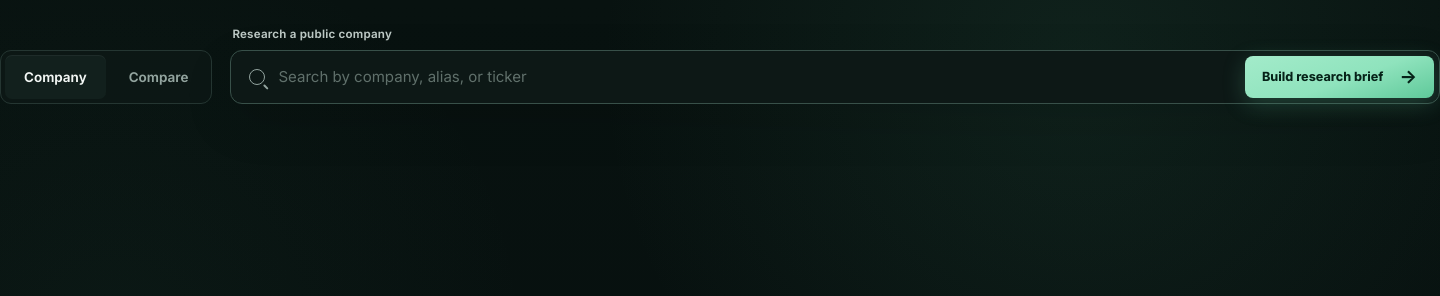
Test case: company autocomplete search › renders translated empty and provider-error states
Type "unsupported" into the dropdown at [762, 77], box x1=278 y1=59 x2=1245 y2=96
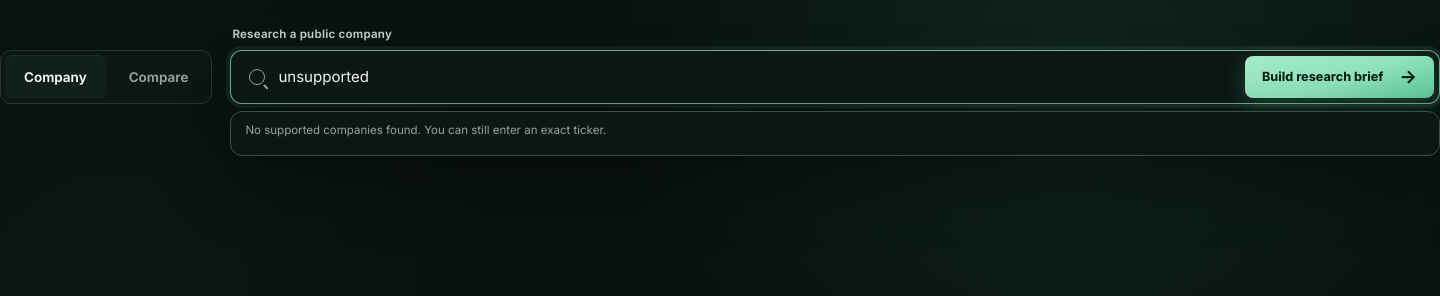
Now the text "No supported companies found" is shown 2 times
Replace the text in the dropdown with "another" at [762, 77], box x1=278 y1=59 x2=1245 y2=96
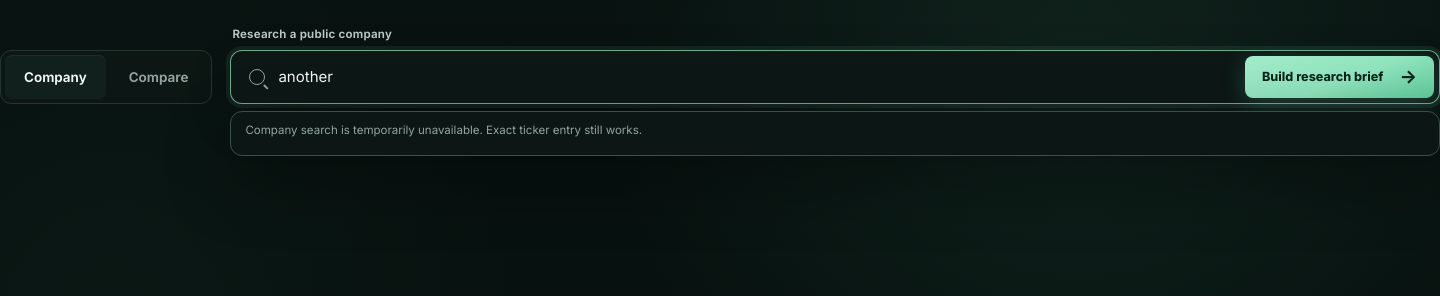
Now the text "Company search is temporarily unavailable" is shown 2 times
